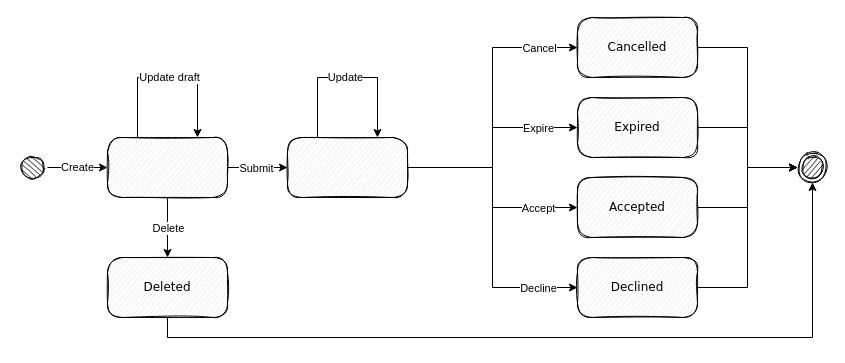
This 845x363 diagram has some shape labels left out. Here are the shapes that lost their labels. From the top down, the centre of each, then its label:
[167,167]: Created
[347,167]: Submitted
